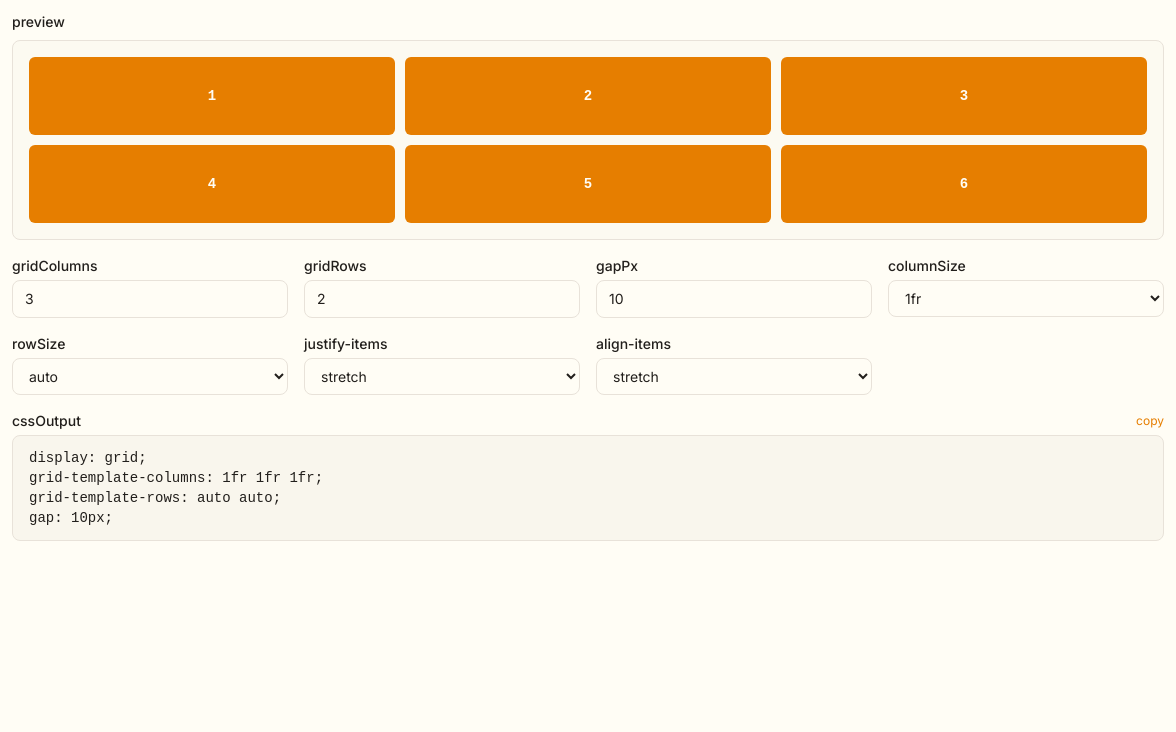
CssGridGenerator › changes row count
Replace the text in the number field labelled "gridRows" with "3": (442, 299) x1=304 y1=280 x2=580 y2=318
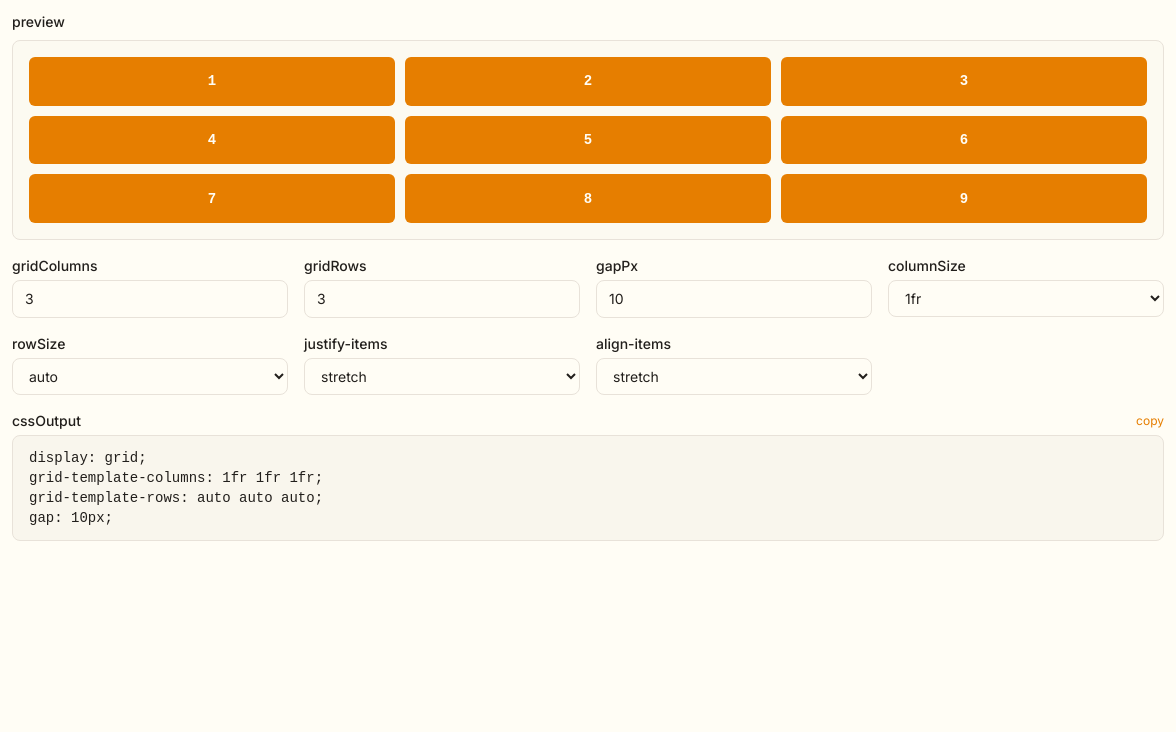
expect the text "grid-template-rows: auto auto auto" is shown: met, box x1=29 y1=450 x2=323 y2=526
